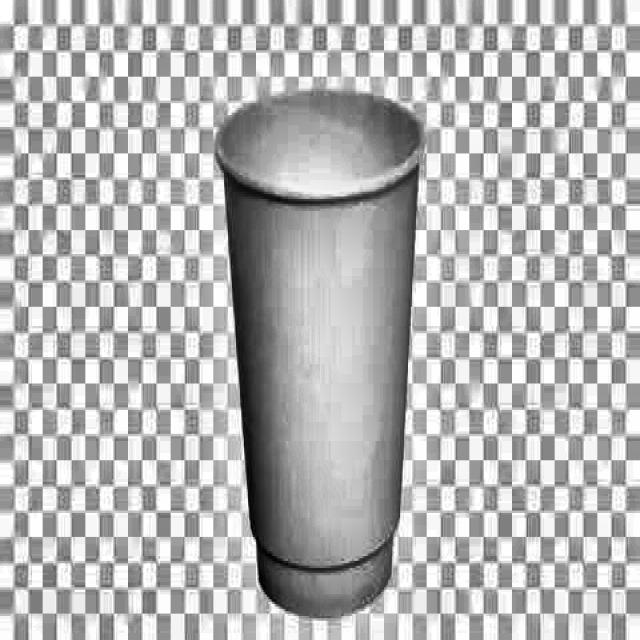Cup: (215, 69, 426, 627)
